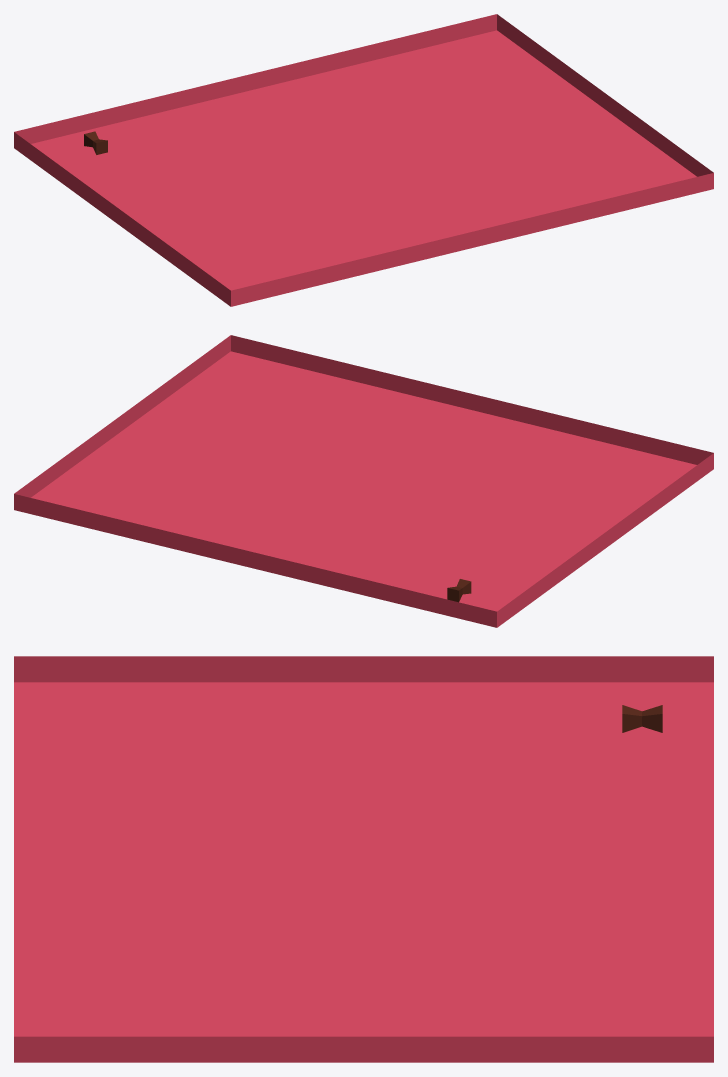
File: Plate.glb
3 views of the same model, one above another, from view 1: azimuth 30°, elevation 25°; view 2: azimuth 150°, elevation 25°; view 3: azimuth 270°, elevation 25° (orthographic). The views are drawn at different scales.
Parts seen in each view (by area): view 1: Cube; view 2: Cube; view 3: Cube, Cube.007.
Part boxes in pixels (x1,y1,x2,y2): Cube: [14, 14, 713, 306]; Cube: [14, 335, 713, 627]; Cube: [14, 656, 713, 1062]; Cube.007: [622, 705, 662, 732].
Size of the model in its own units: 4.5 by 0.1449 by 3.5.
